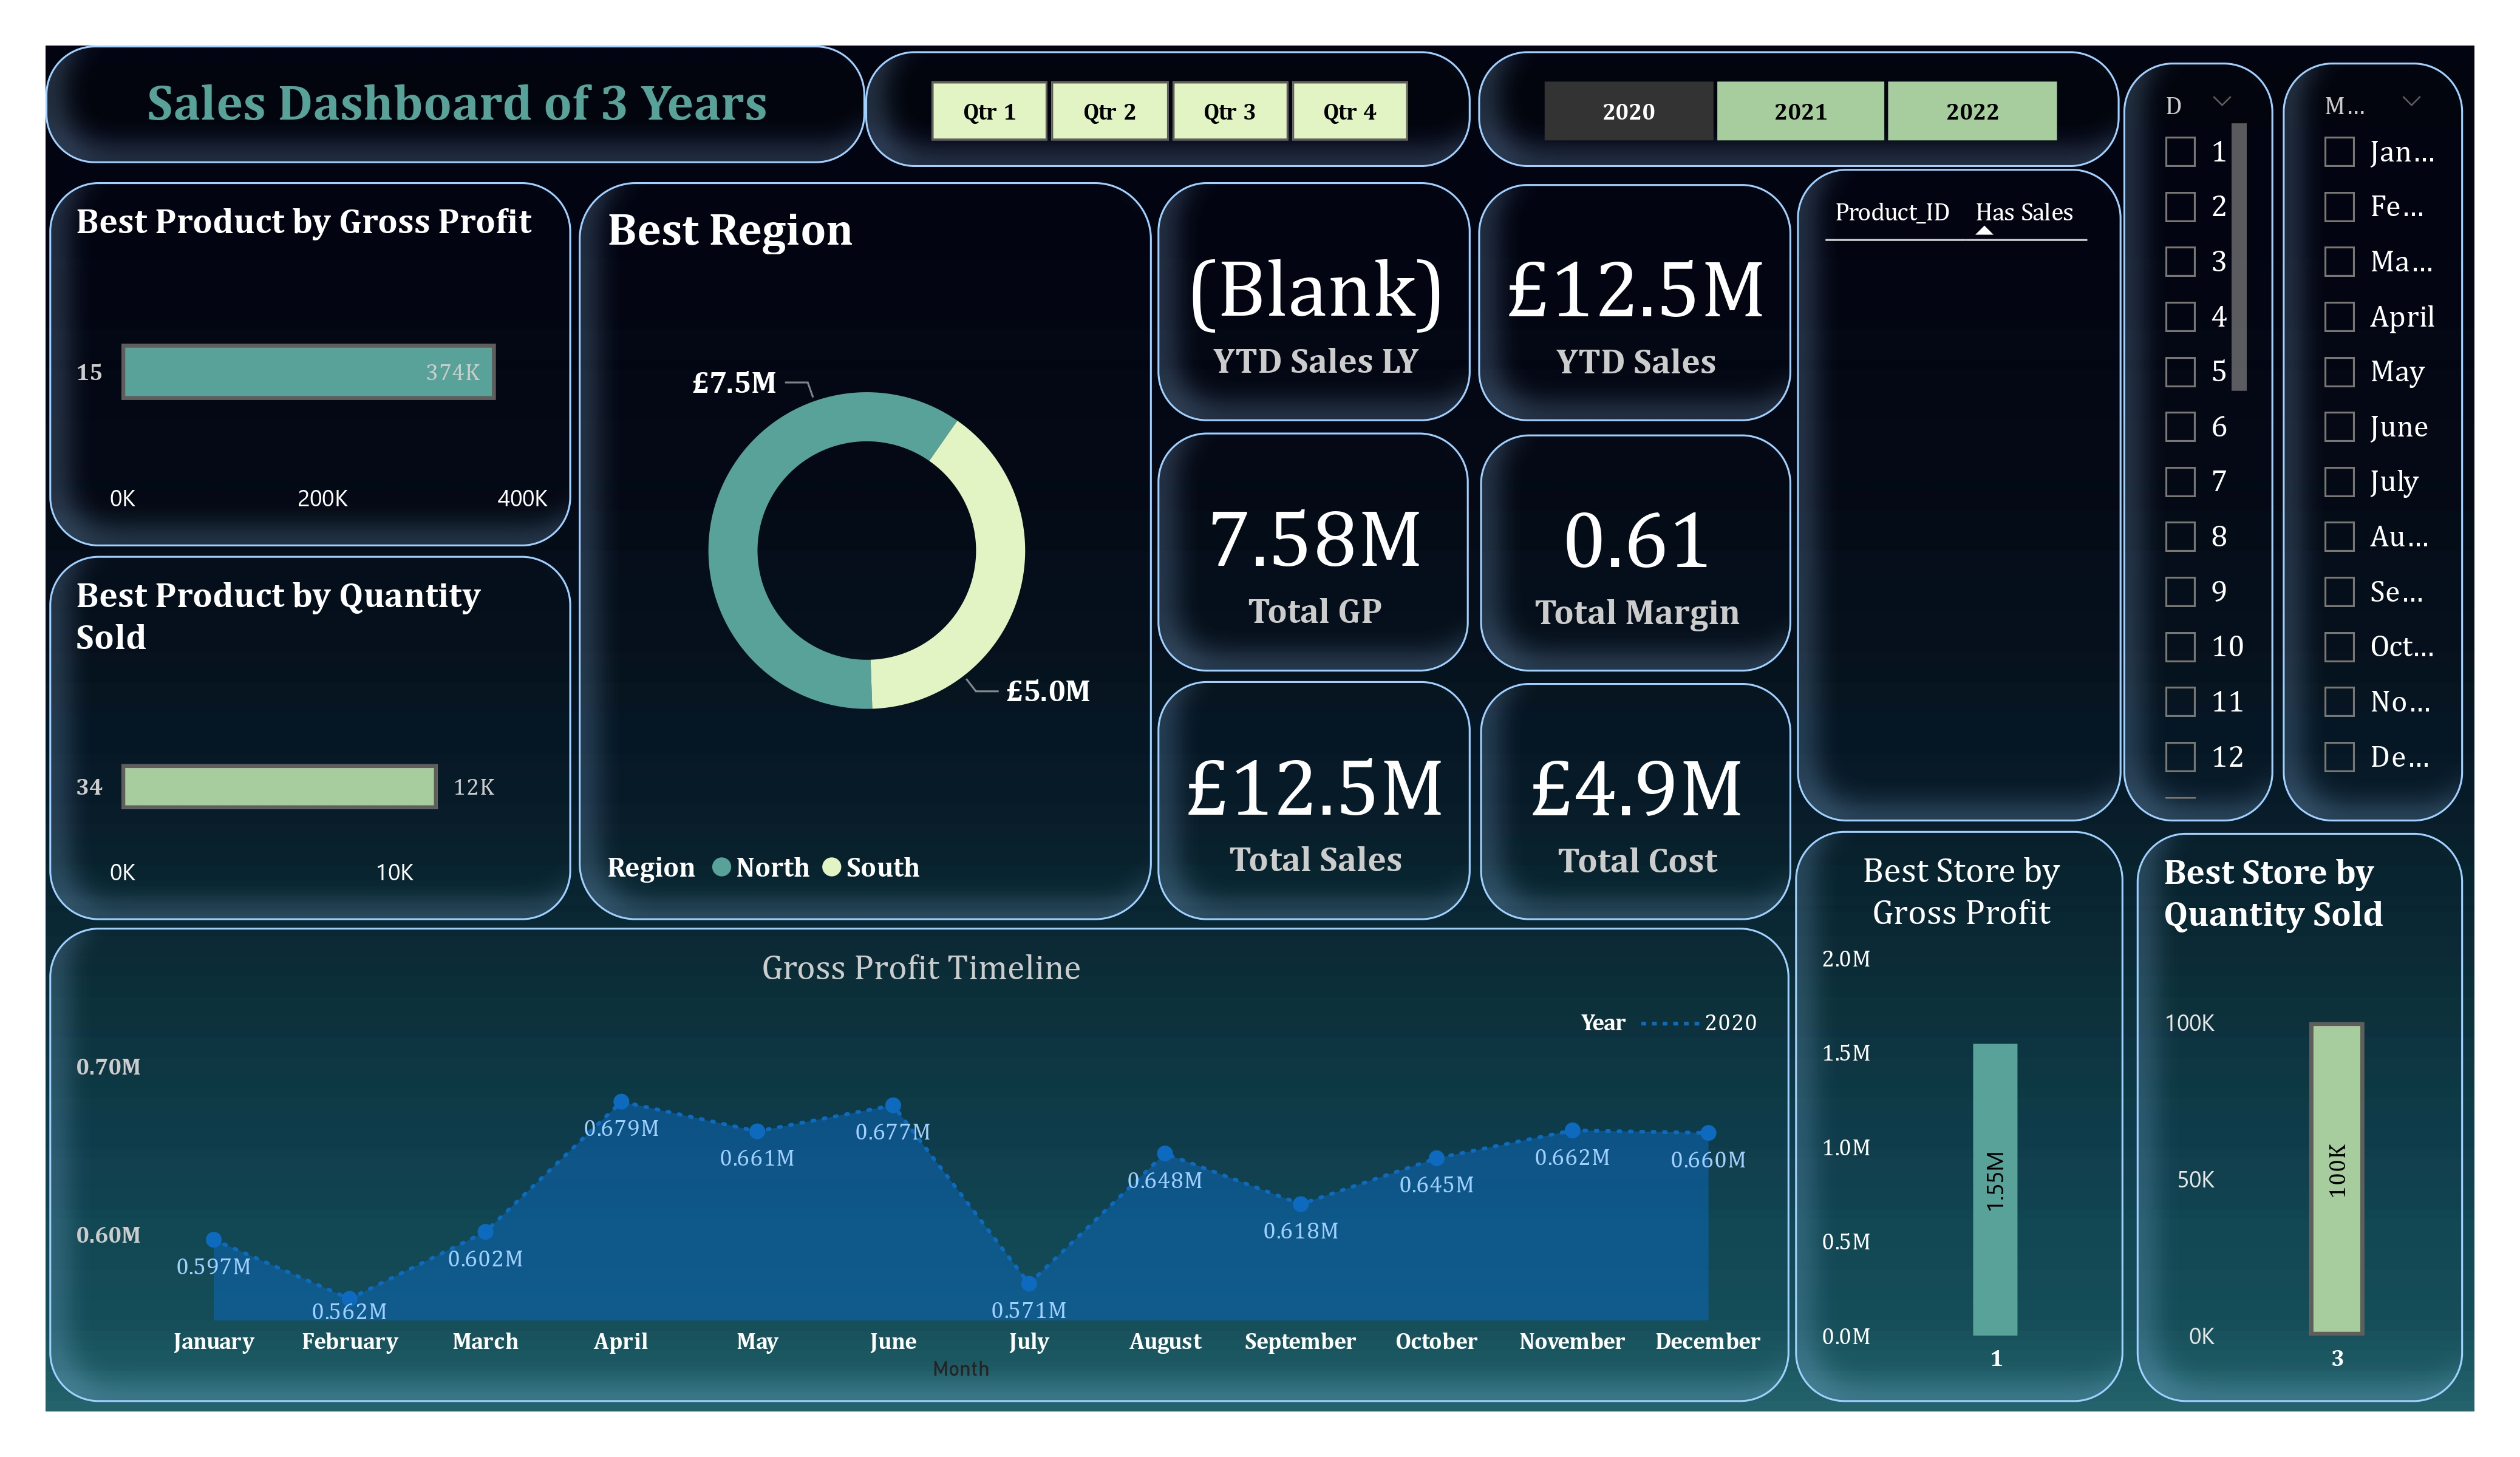

What the dashboard file says about the page in this screenshot:
{"tool":"powerbi","page":{"name":"Page 1","canvas":[1280,720],"ordinal":0},"visuals":[{"type":"slicer","fields":{"Values":["Calendar.Date.Variation.Date Hierarchy.Year"]},"box":[755.4,3.4,337.8,60.1],"z":0},{"type":"card","fields":{"Values":["Sales.Sales Value"]},"box":[585.8,335.1,164.9,125.7],"z":1000},{"type":"card","fields":{"Values":["Sales.GP Value"]},"box":[585.8,204.1,164.2,125.7],"z":2000},{"type":"card","fields":{"Values":["Sales.Margin Value"]},"box":[756.1,204.7,163.5,125],"z":3000},{"type":"areaChart","title":"Gross Profit Timeline","fields":{"Y":["Sales.GP Value"],"Category":["Calendar.Date.Variation.Date Hierarchy.Month"],"Series":["Calendar.Date.Variation.Date Hierarchy.Year"]},"box":[2.4,464.9,916.9,250],"z":4000},{"type":"barChart","title":"Best Product by Quantity Sold","fields":{"Category":["Sales.Product_ID"],"Y":["Sum(Sales.Qty_Sold)"]},"box":[2.4,268.9,275,192],"z":5000},{"type":"donutChart","title":"Best Region","fields":{"Y":["Sales.Sales Value"],"Series":["Location.Region"]},"box":[281.2,71.9,301.6,389.1],"z":6000},{"type":"columnChart","title":"Best Store by Gross Profit","fields":{"Category":["Location.Location_ID"],"Y":["Sales.GP Value"]},"box":[922.3,414.2,173,300.7],"z":7000},{"type":"slicer","fields":{"Values":["Calendar.Date.Variation.Date Hierarchy.Quarter"]},"box":[431.8,3.4,318.9,60.1],"z":8000},{"type":"slicer","fields":{"Values":["Calendar.Date.Variation.Date Hierarchy.Month"]},"box":[1179.1,8.8,95.3,400],"z":9000},{"type":"columnChart","title":"Best Store by Quantity Sold","fields":{"Category":["Sales.Location_ID"],"Y":["Sum(Sales.Qty_Sold)"]},"box":[1102,414.9,172.3,300],"z":10000},{"type":"barChart","title":"Best Product by Gross Profit","fields":{"Category":["Sales.Product_ID"],"Y":["Sales.GP Value"]},"box":[2.4,71.7,275,192],"z":11000},{"type":"card","fields":{"Values":["Sales.Cost Value"]},"box":[756.1,336.5,163.5,125],"z":12000},{"type":"card","fields":{"Values":["Sales.YTD Sales"]},"box":[755.4,73,164.2,125],"z":13000},{"type":"tableEx","fields":{"Values":["Product.Product_ID","Product.Has Sales"]},"box":[922.5,65,171.2,343.8],"z":14000},{"type":"slicer","fields":{"Values":["Calendar.Date.Variation.Date Hierarchy.Day"]},"box":[1095.3,8.8,79.1,400],"z":15000},{"type":"card","fields":{"Values":["Sales.YTD Sales LY"]},"box":[585.8,72.3,164.9,125.7],"z":16000},{"type":"textbox","box":[0,0,431.9,62.3],"z":17000}]}

Visuals, with their boxes in screenshot pixels (x1, y1, x2, y2):
slicer - Calendar.Date.Variation.Date Hierarchy.Year: (x1=1479, y1=52, x2=2120, y2=166)
card - Sales.Sales Value: (x1=1157, y1=681, x2=1470, y2=920)
card - Sales.GP Value: (x1=1157, y1=433, x2=1469, y2=671)
card - Sales.Margin Value: (x1=1480, y1=434, x2=1791, y2=671)
"Gross Profit Timeline" areaChart: (x1=50, y1=928, x2=1790, y2=1402)
"Best Product by Quantity Sold" barChart: (x1=50, y1=555, x2=572, y2=920)
"Best Region" donutChart: (x1=579, y1=182, x2=1151, y2=920)
"Best Store by Gross Profit" columnChart: (x1=1796, y1=831, x2=2124, y2=1402)
slicer - Calendar.Date.Variation.Date Hierarchy.Quarter: (x1=865, y1=52, x2=1470, y2=166)
slicer - Calendar.Date.Variation.Date Hierarchy.Month: (x1=2283, y1=62, x2=2464, y2=821)
"Best Store by Quantity Sold" columnChart: (x1=2137, y1=833, x2=2464, y2=1402)
"Best Product by Gross Profit" barChart: (x1=50, y1=182, x2=572, y2=546)
card - Sales.Cost Value: (x1=1480, y1=684, x2=1791, y2=921)
card - Sales.YTD Sales: (x1=1479, y1=184, x2=1791, y2=421)
tableEx - Product.Product_ID x Product.Has Sales: (x1=1796, y1=169, x2=2121, y2=821)
slicer - Calendar.Date.Variation.Date Hierarchy.Day: (x1=2124, y1=62, x2=2274, y2=821)
card - Sales.YTD Sales LY: (x1=1157, y1=183, x2=1470, y2=421)
textbox: (x1=46, y1=46, x2=865, y2=164)
